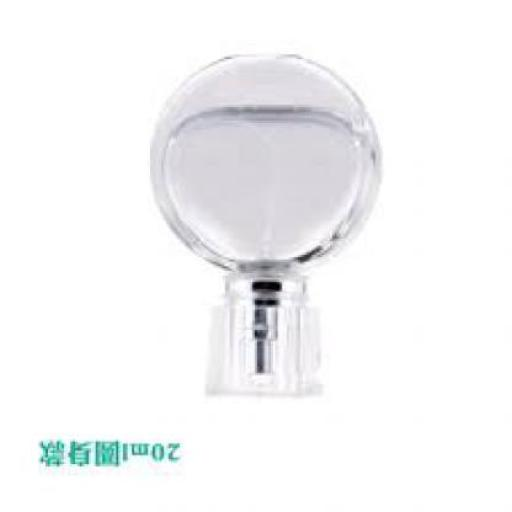glass: (152, 58, 382, 280)
metal: (256, 310, 278, 376)
plastic: (209, 275, 325, 398)
